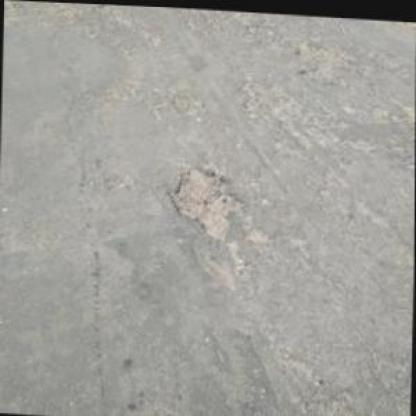pothole: (171, 164, 248, 240), (294, 35, 347, 86)
